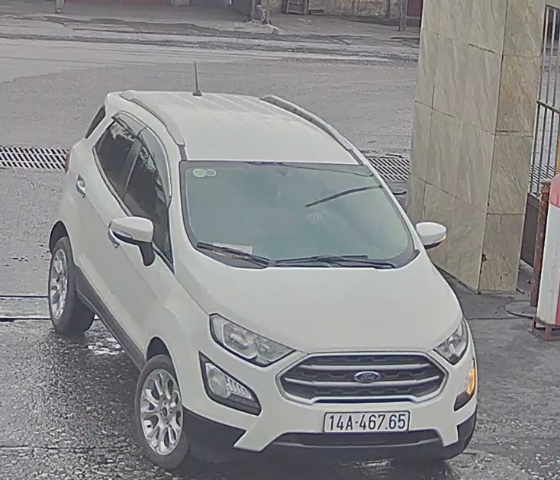vehicle plate: (317, 408, 417, 432)
